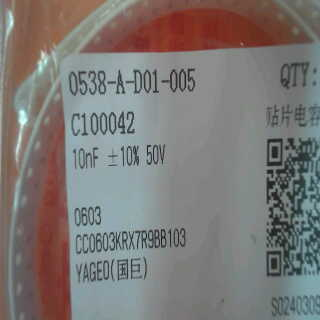10nF: (69, 145, 104, 169)
